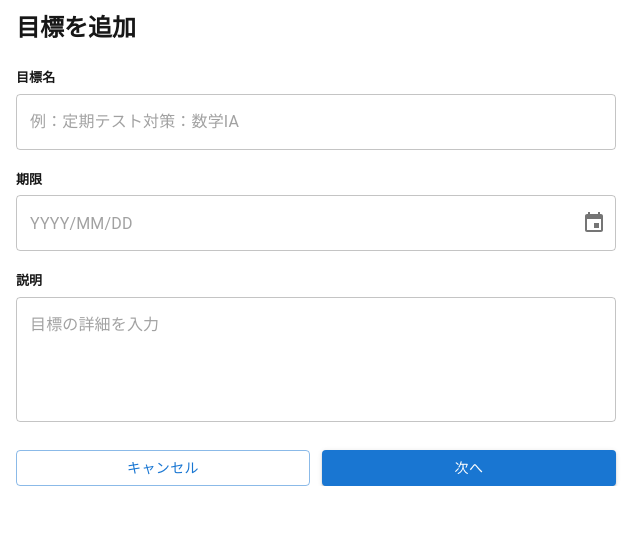
Test case: CreateGoal › 未入力で送信すると目標名・期限のバリデーションエラーが表示される
The width and height of the screenshot is (634, 549).
Click the button "次へ": {"x": 469, "y": 468} x1=322 y1=450 x2=616 y2=486
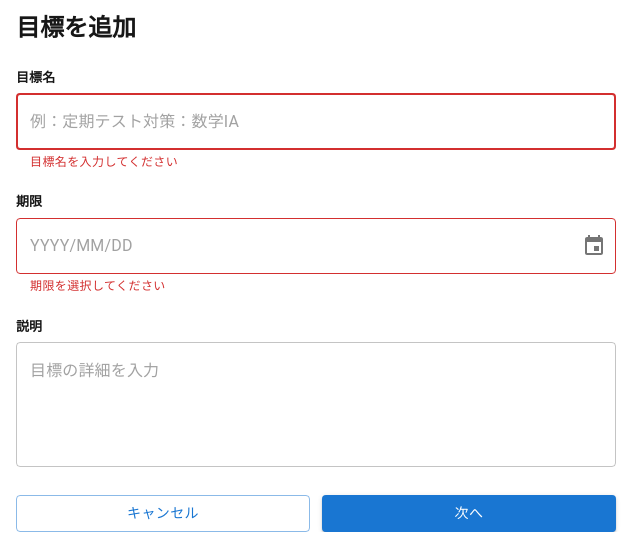
Expected: the text "目標名を入力してください" is shown, x1=30 y1=154 x2=178 y2=168
Expected: the text "期限を選択してください" is shown, x1=30 y1=279 x2=166 y2=293
